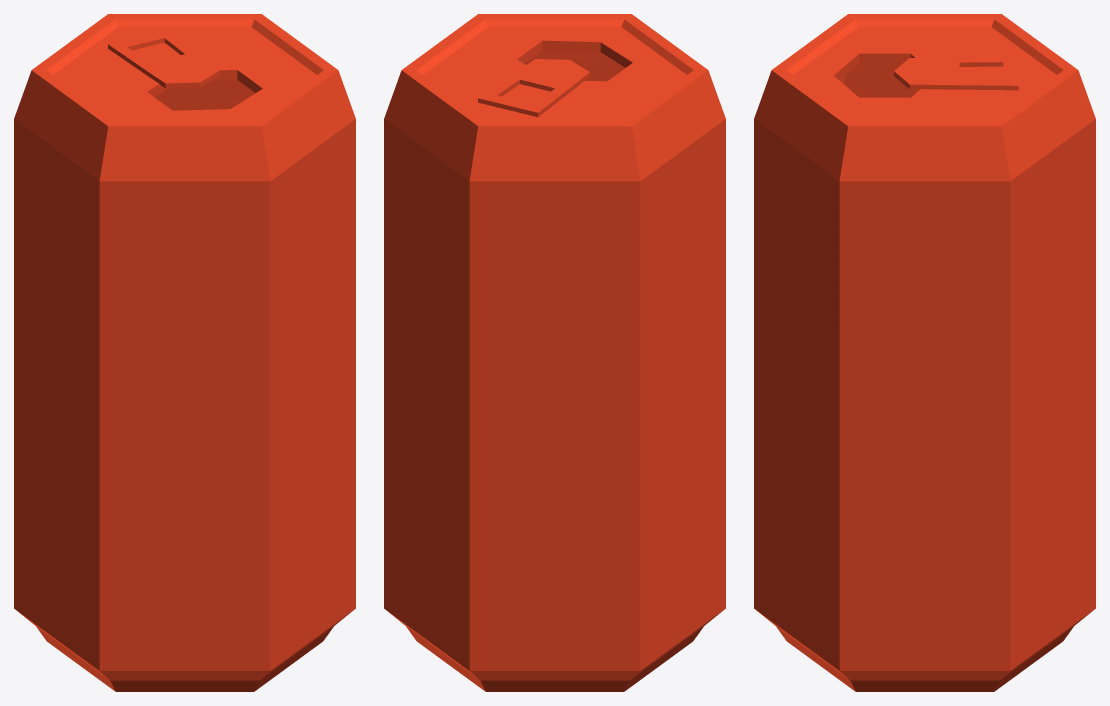
File: SM_Can_City.fbx
3 views of the same model, side by side, from view 1: azimuth 30°, elevation 25°; view 2: azimuth 150°, elevation 25°; view 3: azimuth 270°, elevation 25° (orthographic).
Visible parts, largest first — view 1: SM_Can_City; view 2: SM_Can_City; view 3: SM_Can_City.
Boxes of the visible parts, x1,y1,x2,y2 form: SM_Can_City: (14,14,355,691); SM_Can_City: (384,14,725,691); SM_Can_City: (754,14,1095,691).
Size of the model in its own units: 0.0714 by 0.1519 by 0.0824.
